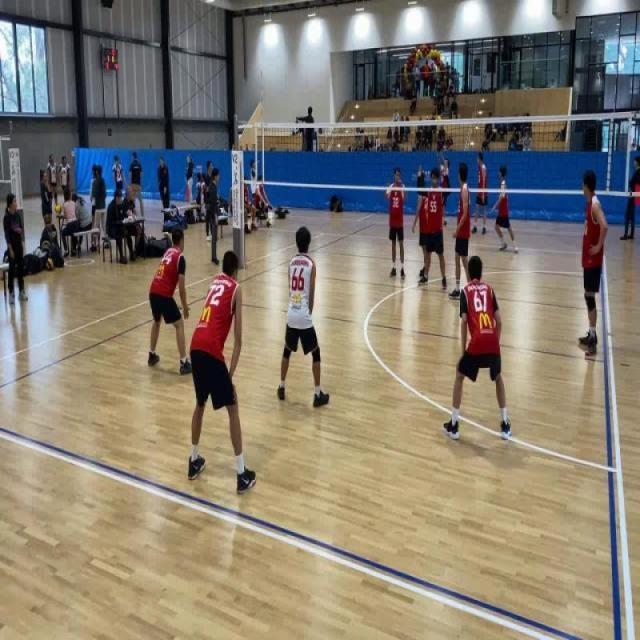volleyball: (46, 257, 54, 272), (54, 204, 62, 214), (147, 233, 154, 240), (163, 230, 169, 238), (436, 114, 442, 121)
